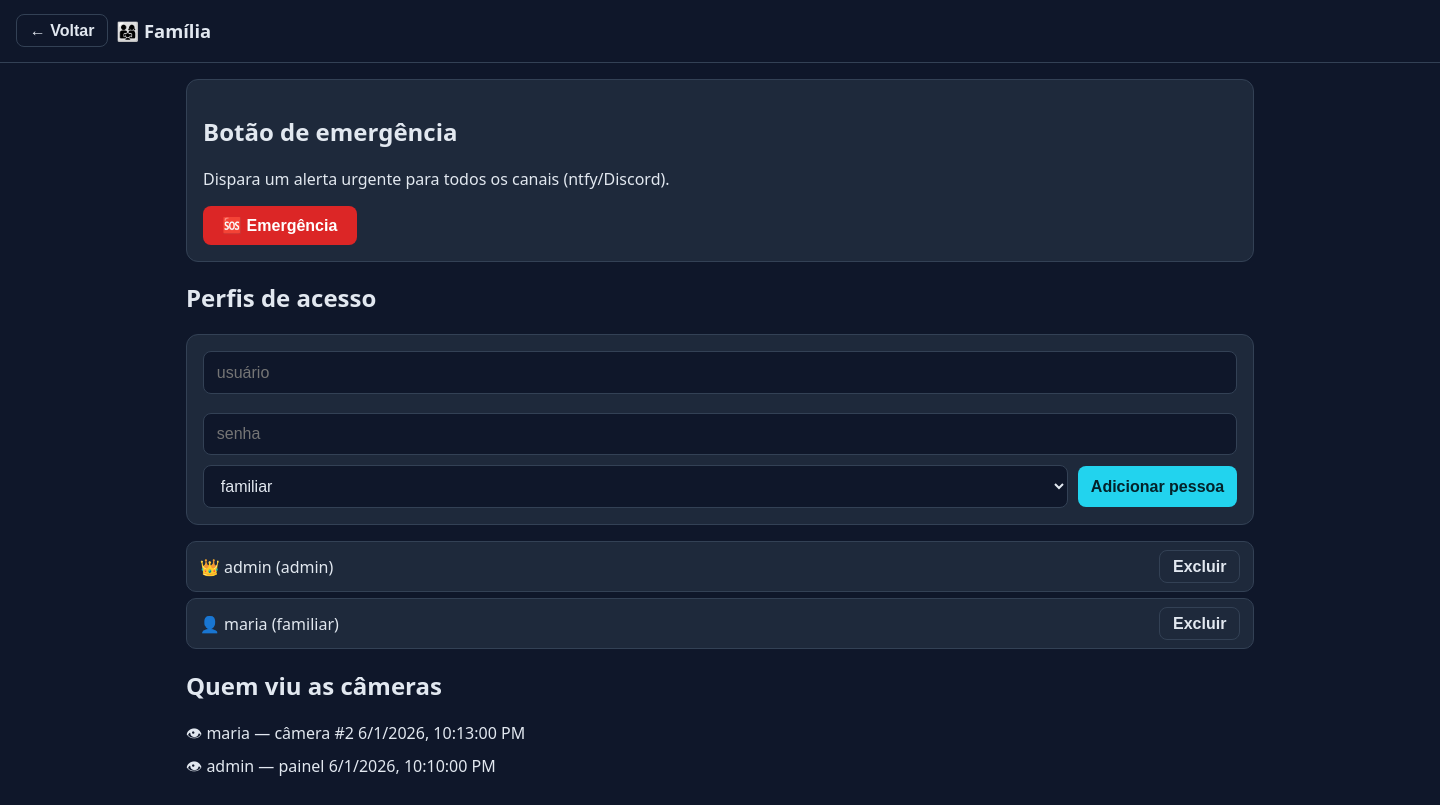
Test: Family › shows a generic emergency error for a non-Error rejection
This screenshot has width=1440, height=805.
What coordinates should you click on to do the following:
click the button "🆘 Emergência"
I would click on:
 (280, 226)
Its box is [203,206,356,245].
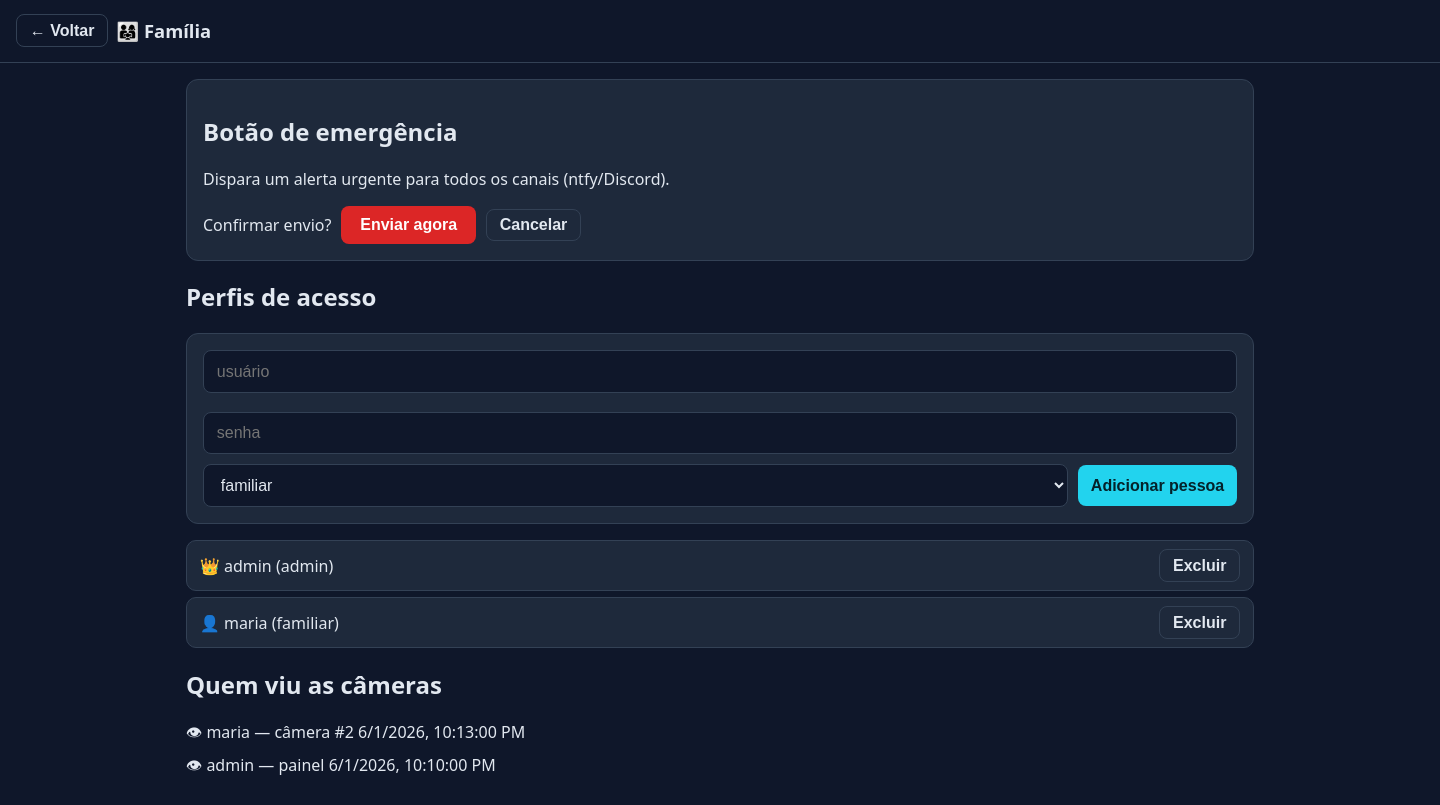
What coordinates should you click on to do the following:
click the button "Enviar agora"
I would click on:
 (409, 225)
Its box is [341,206,476,244].
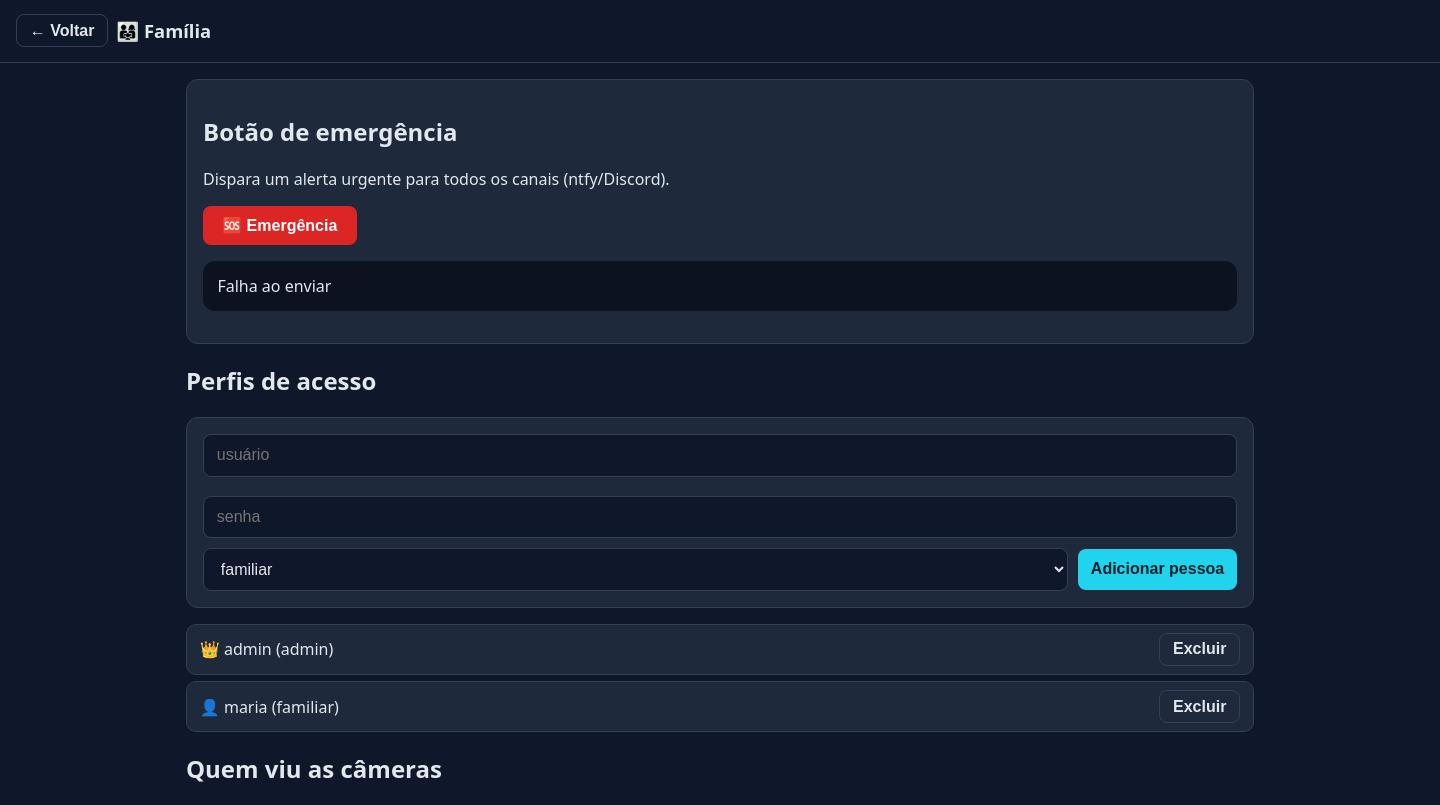
Expected: the text "Falha ao enviar" is shown, [203,261,1237,311]
